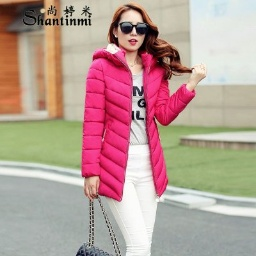face: (108, 2, 174, 60)
